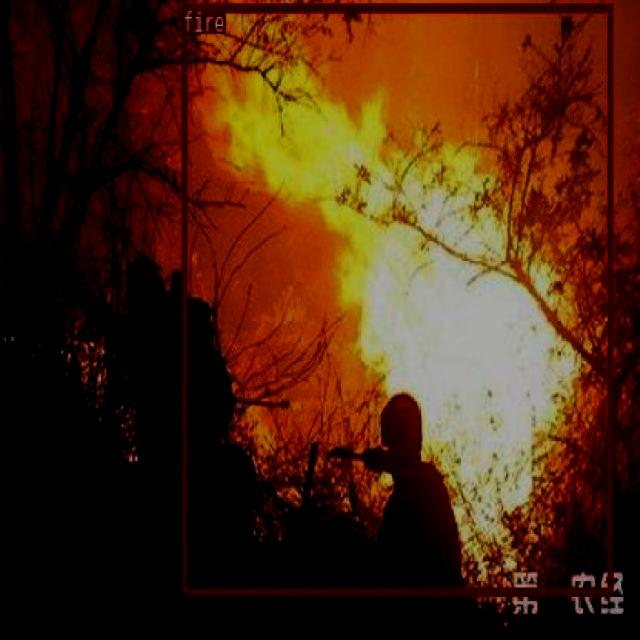fire: (180, 3, 612, 594)
